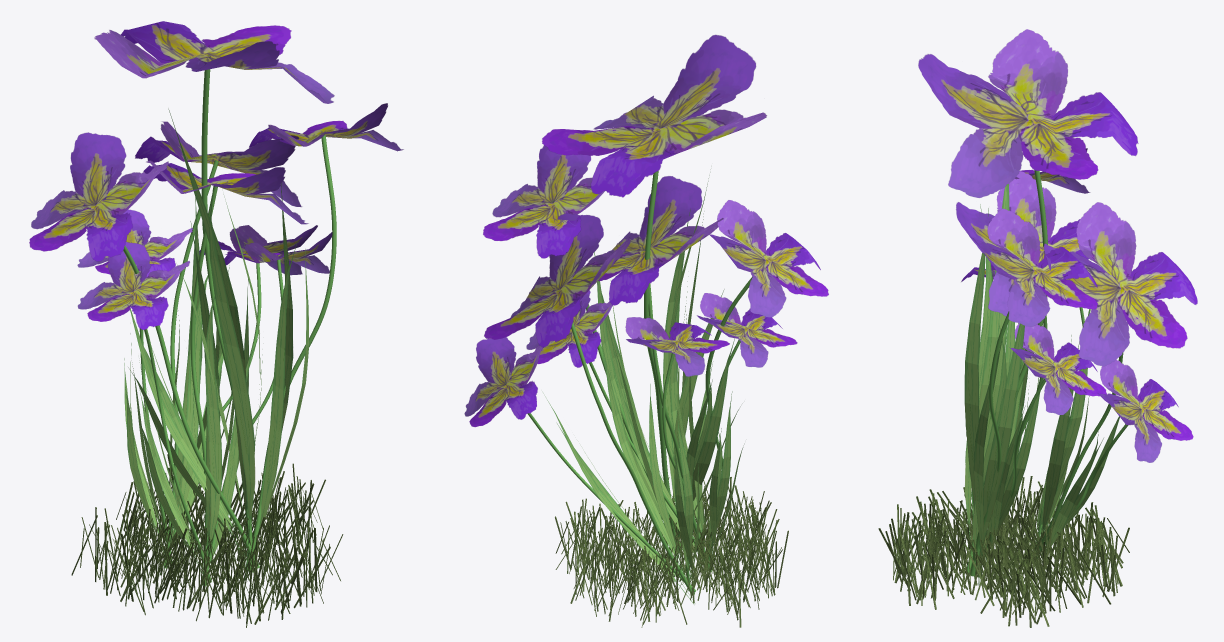
The model's file is iris_bigger.glb.
3 views of the same model, side by side, from view 1: azimuth 30°, elevation 25°; view 2: azimuth 150°, elevation 25°; view 3: azimuth 270°, elevation 25° (orthographic). The views are drawn at different scales.
Visible parts, largest first — view 1: lys.001 (×3); view 2: lys.001 (×3); view 3: lys.001 (×3).
Part boxes in pixels (x1,y1,x2,y2): lys.001 (×3): [29, 21, 403, 587]; lys.001 (×3): [464, 34, 828, 604]; lys.001 (×3): [918, 29, 1197, 585].
Bounding box in the file's own units: 1.82 × 2.63 × 1.46.
6 materials, 4 textured.
